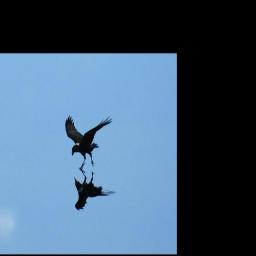Crow: (64, 115, 114, 171)
